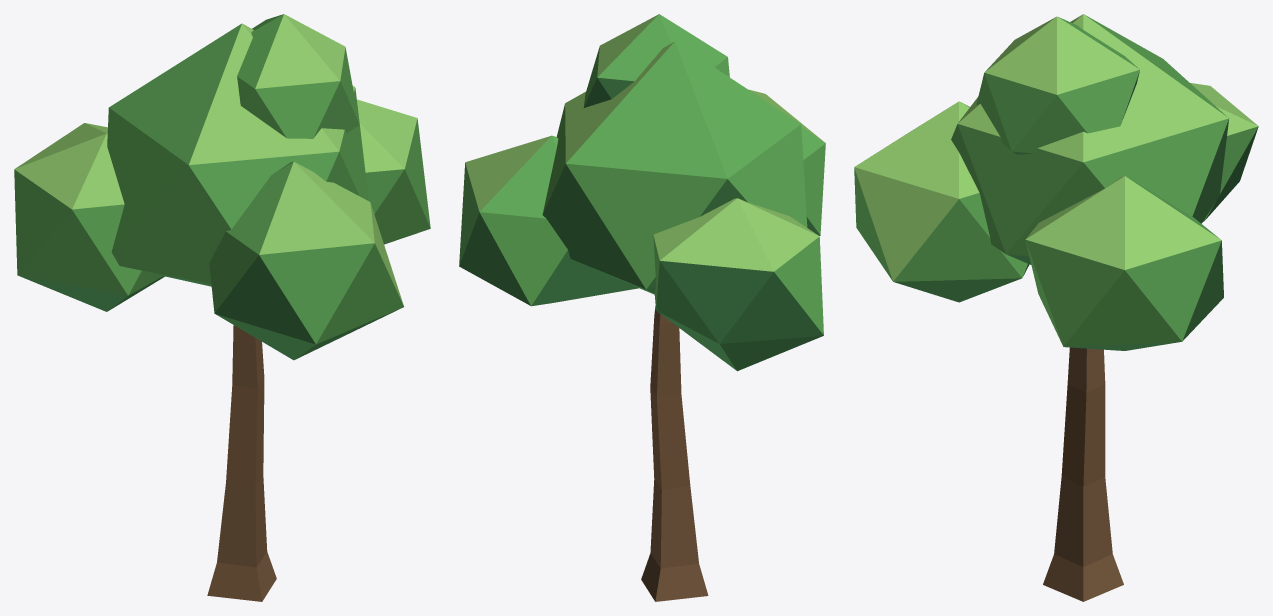
File: tree_broadleaf_a_lod1.glb
3 renders of one model, left to right at view 1: azimuth 30°, elevation 25°; view 2: azimuth 150°, elevation 25°; view 3: azimuth 270°, elevation 25°, orthographic. The views are drawn at different scales.
Visible parts, largest first — view 1: tree_broadleaf_a_lod1; view 2: tree_broadleaf_a_lod1; view 3: tree_broadleaf_a_lod1.
Part boxes in pixels (<box>): tree_broadleaf_a_lod1: <box>14,14,430,601</box>; tree_broadleaf_a_lod1: <box>459,14,825,601</box>; tree_broadleaf_a_lod1: <box>854,14,1258,601</box>.
Size of the model in its own units: 5.98 by 8.54 by 5.37.
